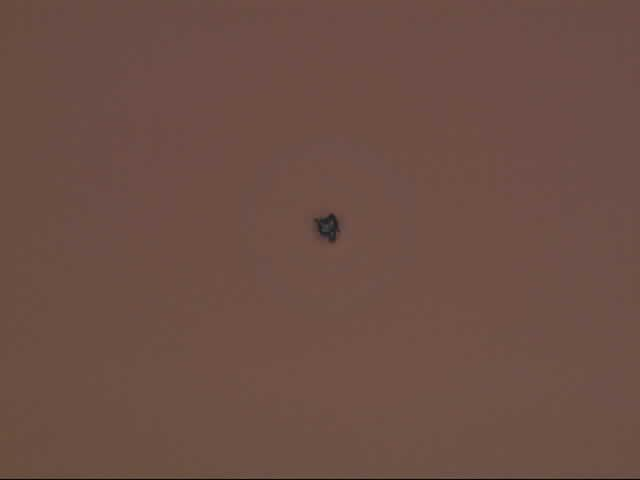PIQ PARTICLE: (310, 209, 345, 249)
